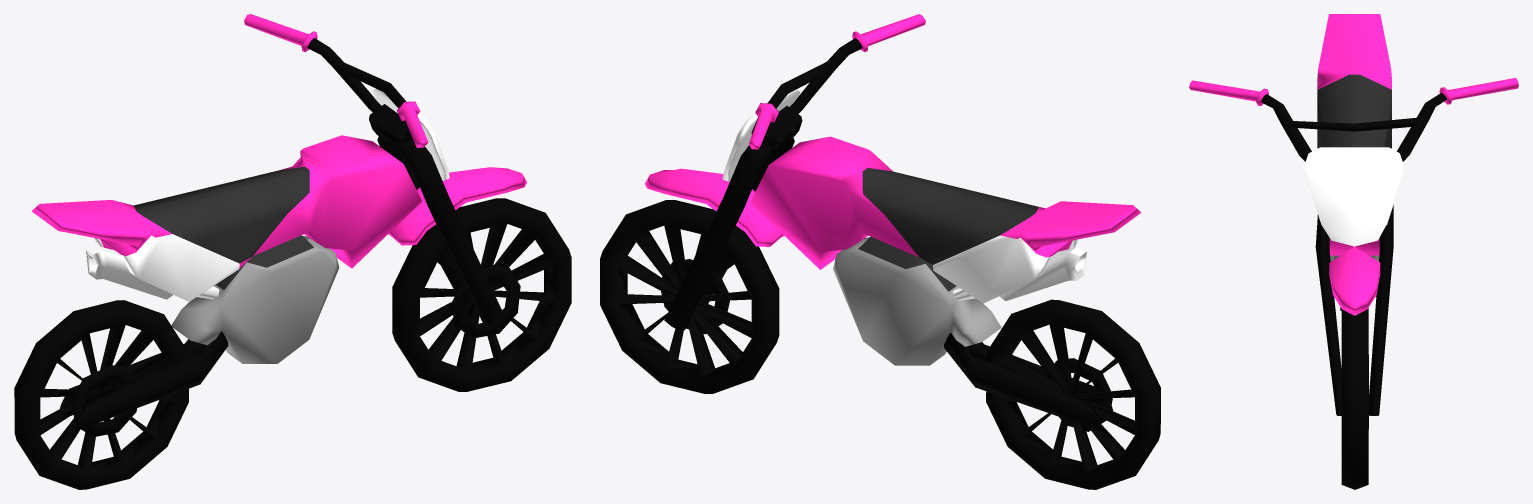
File: DirtBike250ccPink.glb
3 renders of one model, left to right at view 1: azimuth 30°, elevation 25°; view 2: azimuth 150°, elevation 25°; view 3: azimuth 270°, elevation 25°, orthographic. The views are drawn at different scales.
Visible parts, largest first — view 1: DirtBike250ccPink; view 2: DirtBike250ccPink; view 3: DirtBike250ccPink.
Boxes of the visible parts, x1,y1,x2,y2 form: DirtBike250ccPink: (14, 14, 571, 489); DirtBike250ccPink: (600, 14, 1160, 489); DirtBike250ccPink: (1189, 14, 1518, 489).
Size of the model in its own units: 2.46 by 1.49 by 1.33.
1 material, 1 textured.
